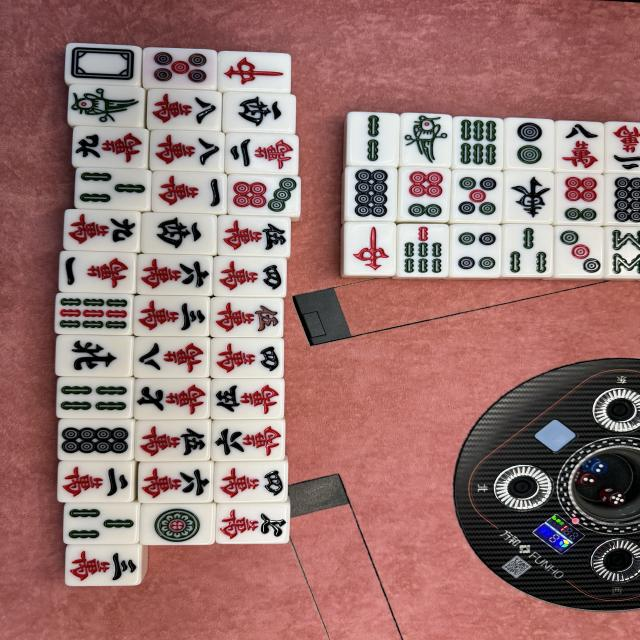hdr: (218, 52, 292, 92), (342, 223, 394, 276)
hdw: (64, 43, 142, 85)
hwe: (503, 170, 553, 223)
hwn: (54, 334, 134, 376)
hww: (140, 213, 217, 255), (223, 92, 296, 134)
sb1: (65, 85, 144, 126), (401, 113, 452, 167)
sb2: (347, 112, 400, 166)
sb3: (74, 168, 150, 210), (64, 503, 138, 542), (502, 223, 553, 275)
sb4: (56, 378, 132, 417)
sb6: (452, 117, 503, 169)
sb7: (396, 224, 448, 278)
sb8: (604, 227, 640, 280)
sb9: (54, 293, 131, 335)
sc1: (152, 171, 226, 215), (60, 252, 135, 293)
sc2: (57, 461, 132, 503), (225, 133, 300, 172), (606, 121, 640, 172)
sc3: (66, 544, 140, 586), (134, 296, 210, 336)
sc4: (210, 338, 284, 378), (215, 462, 288, 502), (214, 258, 288, 296)
sc5: (217, 215, 290, 258), (136, 420, 210, 461), (210, 297, 283, 337), (212, 380, 284, 420)
sc6: (138, 254, 212, 296), (139, 463, 212, 502)
sc7: (133, 378, 207, 419), (216, 504, 290, 545)
sc8: (148, 89, 224, 131), (150, 130, 224, 171), (135, 336, 208, 377), (555, 120, 604, 170)
sc9: (63, 209, 141, 252), (72, 125, 148, 168)
sd2: (504, 119, 554, 170)
sd3: (555, 226, 605, 278)
sd4: (451, 224, 501, 278)
sd5: (143, 47, 217, 89), (452, 170, 500, 222)
sd6: (212, 420, 284, 460), (398, 167, 448, 223), (555, 172, 603, 224)
sd7: (228, 174, 302, 216)
sd8: (57, 419, 134, 461), (344, 167, 396, 222), (603, 174, 640, 224)
